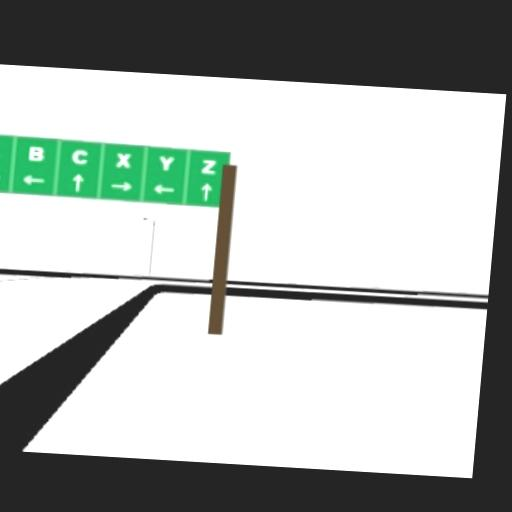A: (0, 141, 1, 158)
B: (27, 145, 44, 161)
C: (70, 148, 89, 165)
Left: (21, 173, 45, 185), (153, 182, 175, 193)
Right: (108, 179, 132, 191), (0, 171, 1, 182)
Straight: (71, 172, 84, 191), (200, 182, 212, 200)
X: (115, 152, 132, 168)
Y: (158, 155, 175, 171)
Z: (200, 158, 217, 174)
